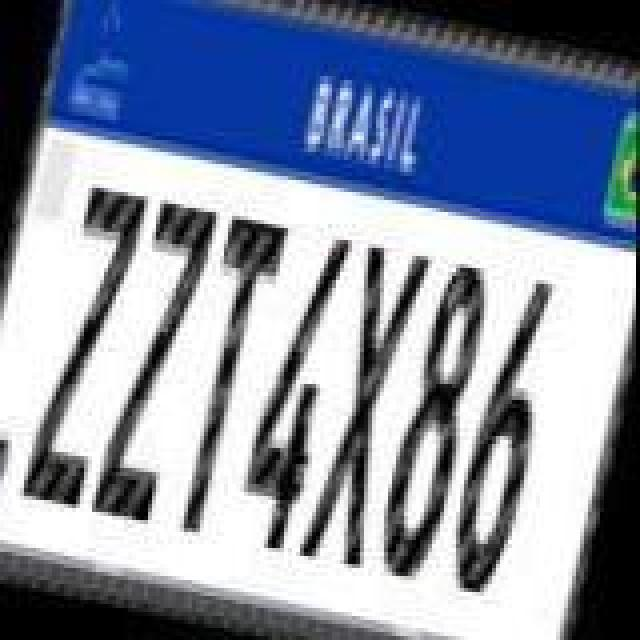4: (228, 224, 364, 560)
6: (438, 268, 574, 604)
8: (368, 252, 504, 588)
T: (160, 208, 296, 544)
X: (294, 236, 434, 580)
Z: (16, 176, 152, 512), (88, 192, 224, 528)
